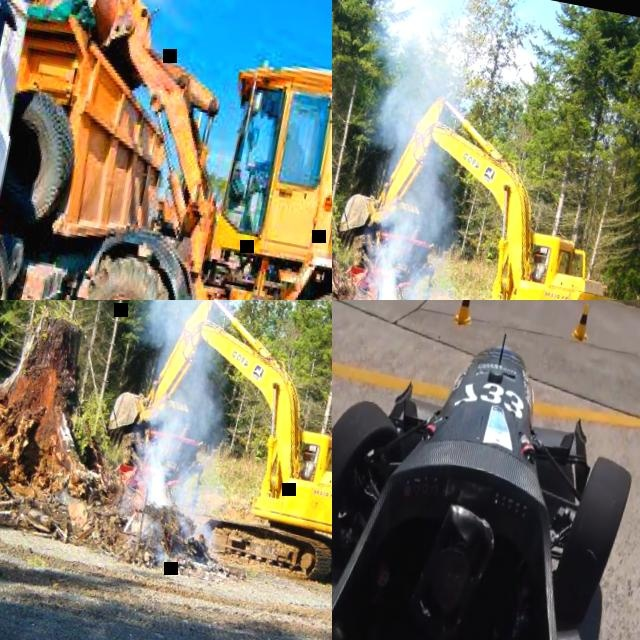Person: (256, 119, 308, 187), (299, 448, 318, 480), (531, 250, 549, 282)
Safety Cone: (569, 300, 595, 345), (451, 300, 479, 331)
machinery: (0, 0, 332, 300), (85, 300, 332, 593), (332, 78, 640, 300), (0, 0, 209, 300)
vehicle: (332, 300, 640, 640)
